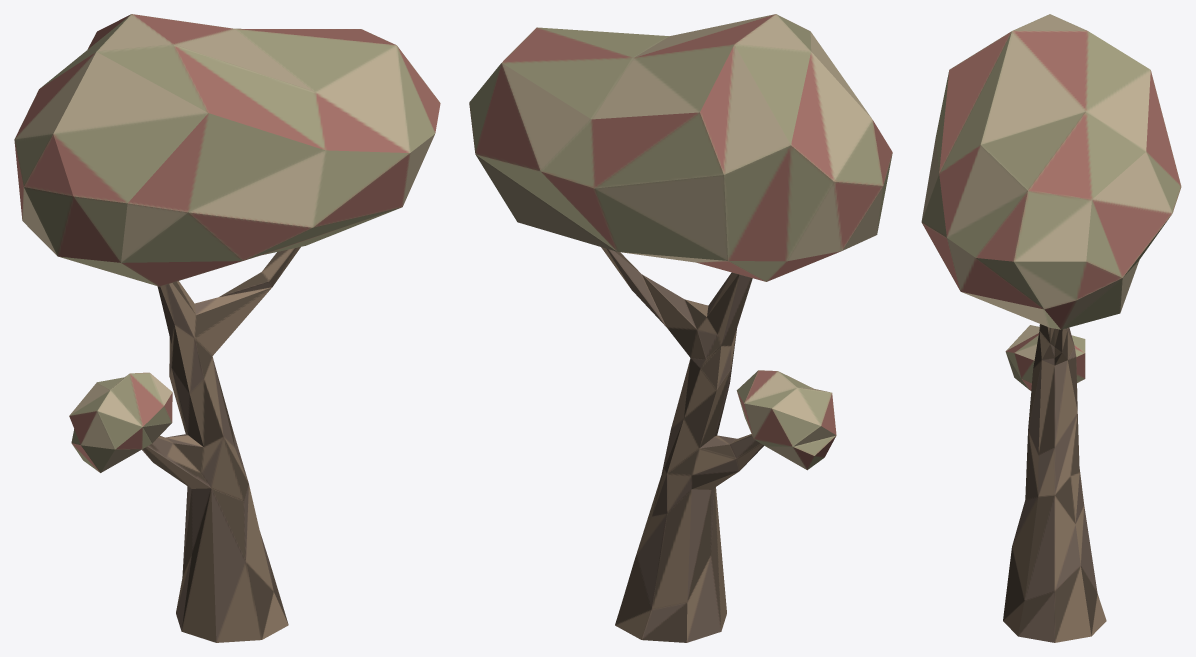
File: Isla_Bosque_Arbol_Rosa.FBX
3 views of the same model, side by side, from view 1: azimuth 30°, elevation 25°; view 2: azimuth 150°, elevation 25°; view 3: azimuth 270°, elevation 25° (orthographic). The views are drawn at different scales.
Visible parts, largest first — view 1: Isla_Bosque_Arbol; view 2: Isla_Bosque_Arbol; view 3: Isla_Bosque_Arbol.
Boxes of the visible parts, bbox=[...] form: Isla_Bosque_Arbol: bbox=[14, 14, 440, 642]; Isla_Bosque_Arbol: bbox=[469, 14, 892, 642]; Isla_Bosque_Arbol: bbox=[921, 14, 1181, 642].
Size of the model in its own units: 81.36 by 120 by 51.07.
1 material, 1 textured.
